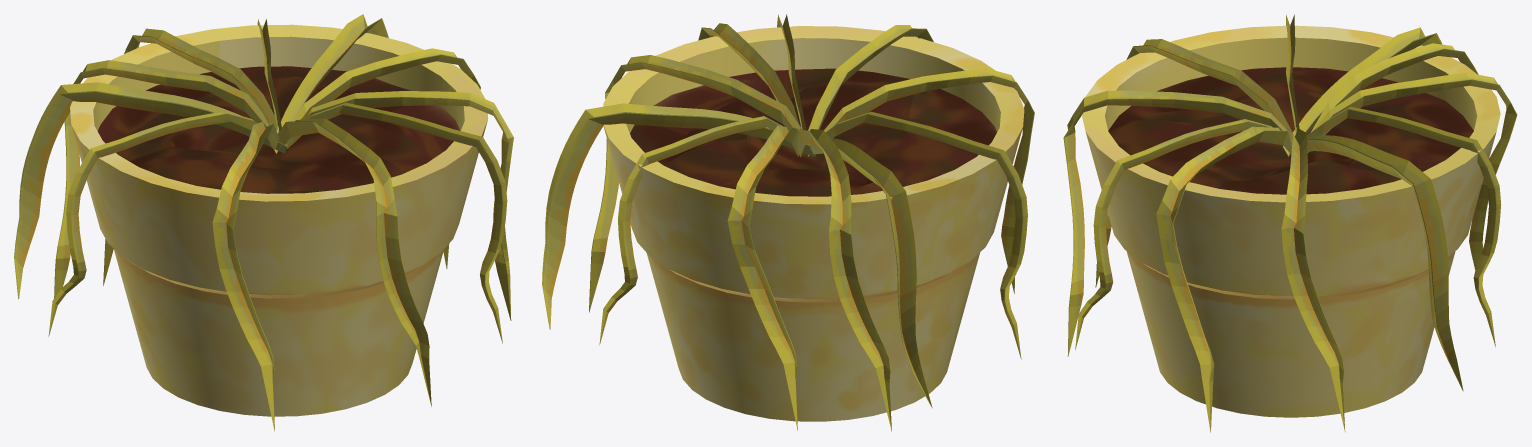
The model's file is Chlorophytum_Dead_End.glb.
3 renders of one model, left to right at view 1: azimuth 30°, elevation 25°; view 2: azimuth 150°, elevation 25°; view 3: azimuth 270°, elevation 25°, orthographic.
Parts seen in each view (by area): view 1: Pot, Plant; view 2: Pot, Plant; view 3: Pot, Plant.
Boxes of the visible parts, x1,y1,x2,y2 form: Pot: (70,24,488,416); Plant: (14,14,513,431); Pot: (603,26,1024,421); Plant: (542,14,1034,431); Pot: (1081,25,1500,417); Plant: (1063,14,1517,432).
Size of the model in its own units: 2.36 by 1.46 by 2.22.
Materials: 2 (2 with a texture image).
